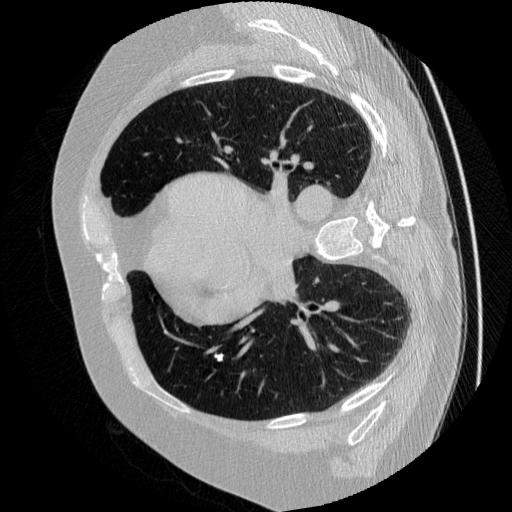nodule: (213, 352, 226, 365)
